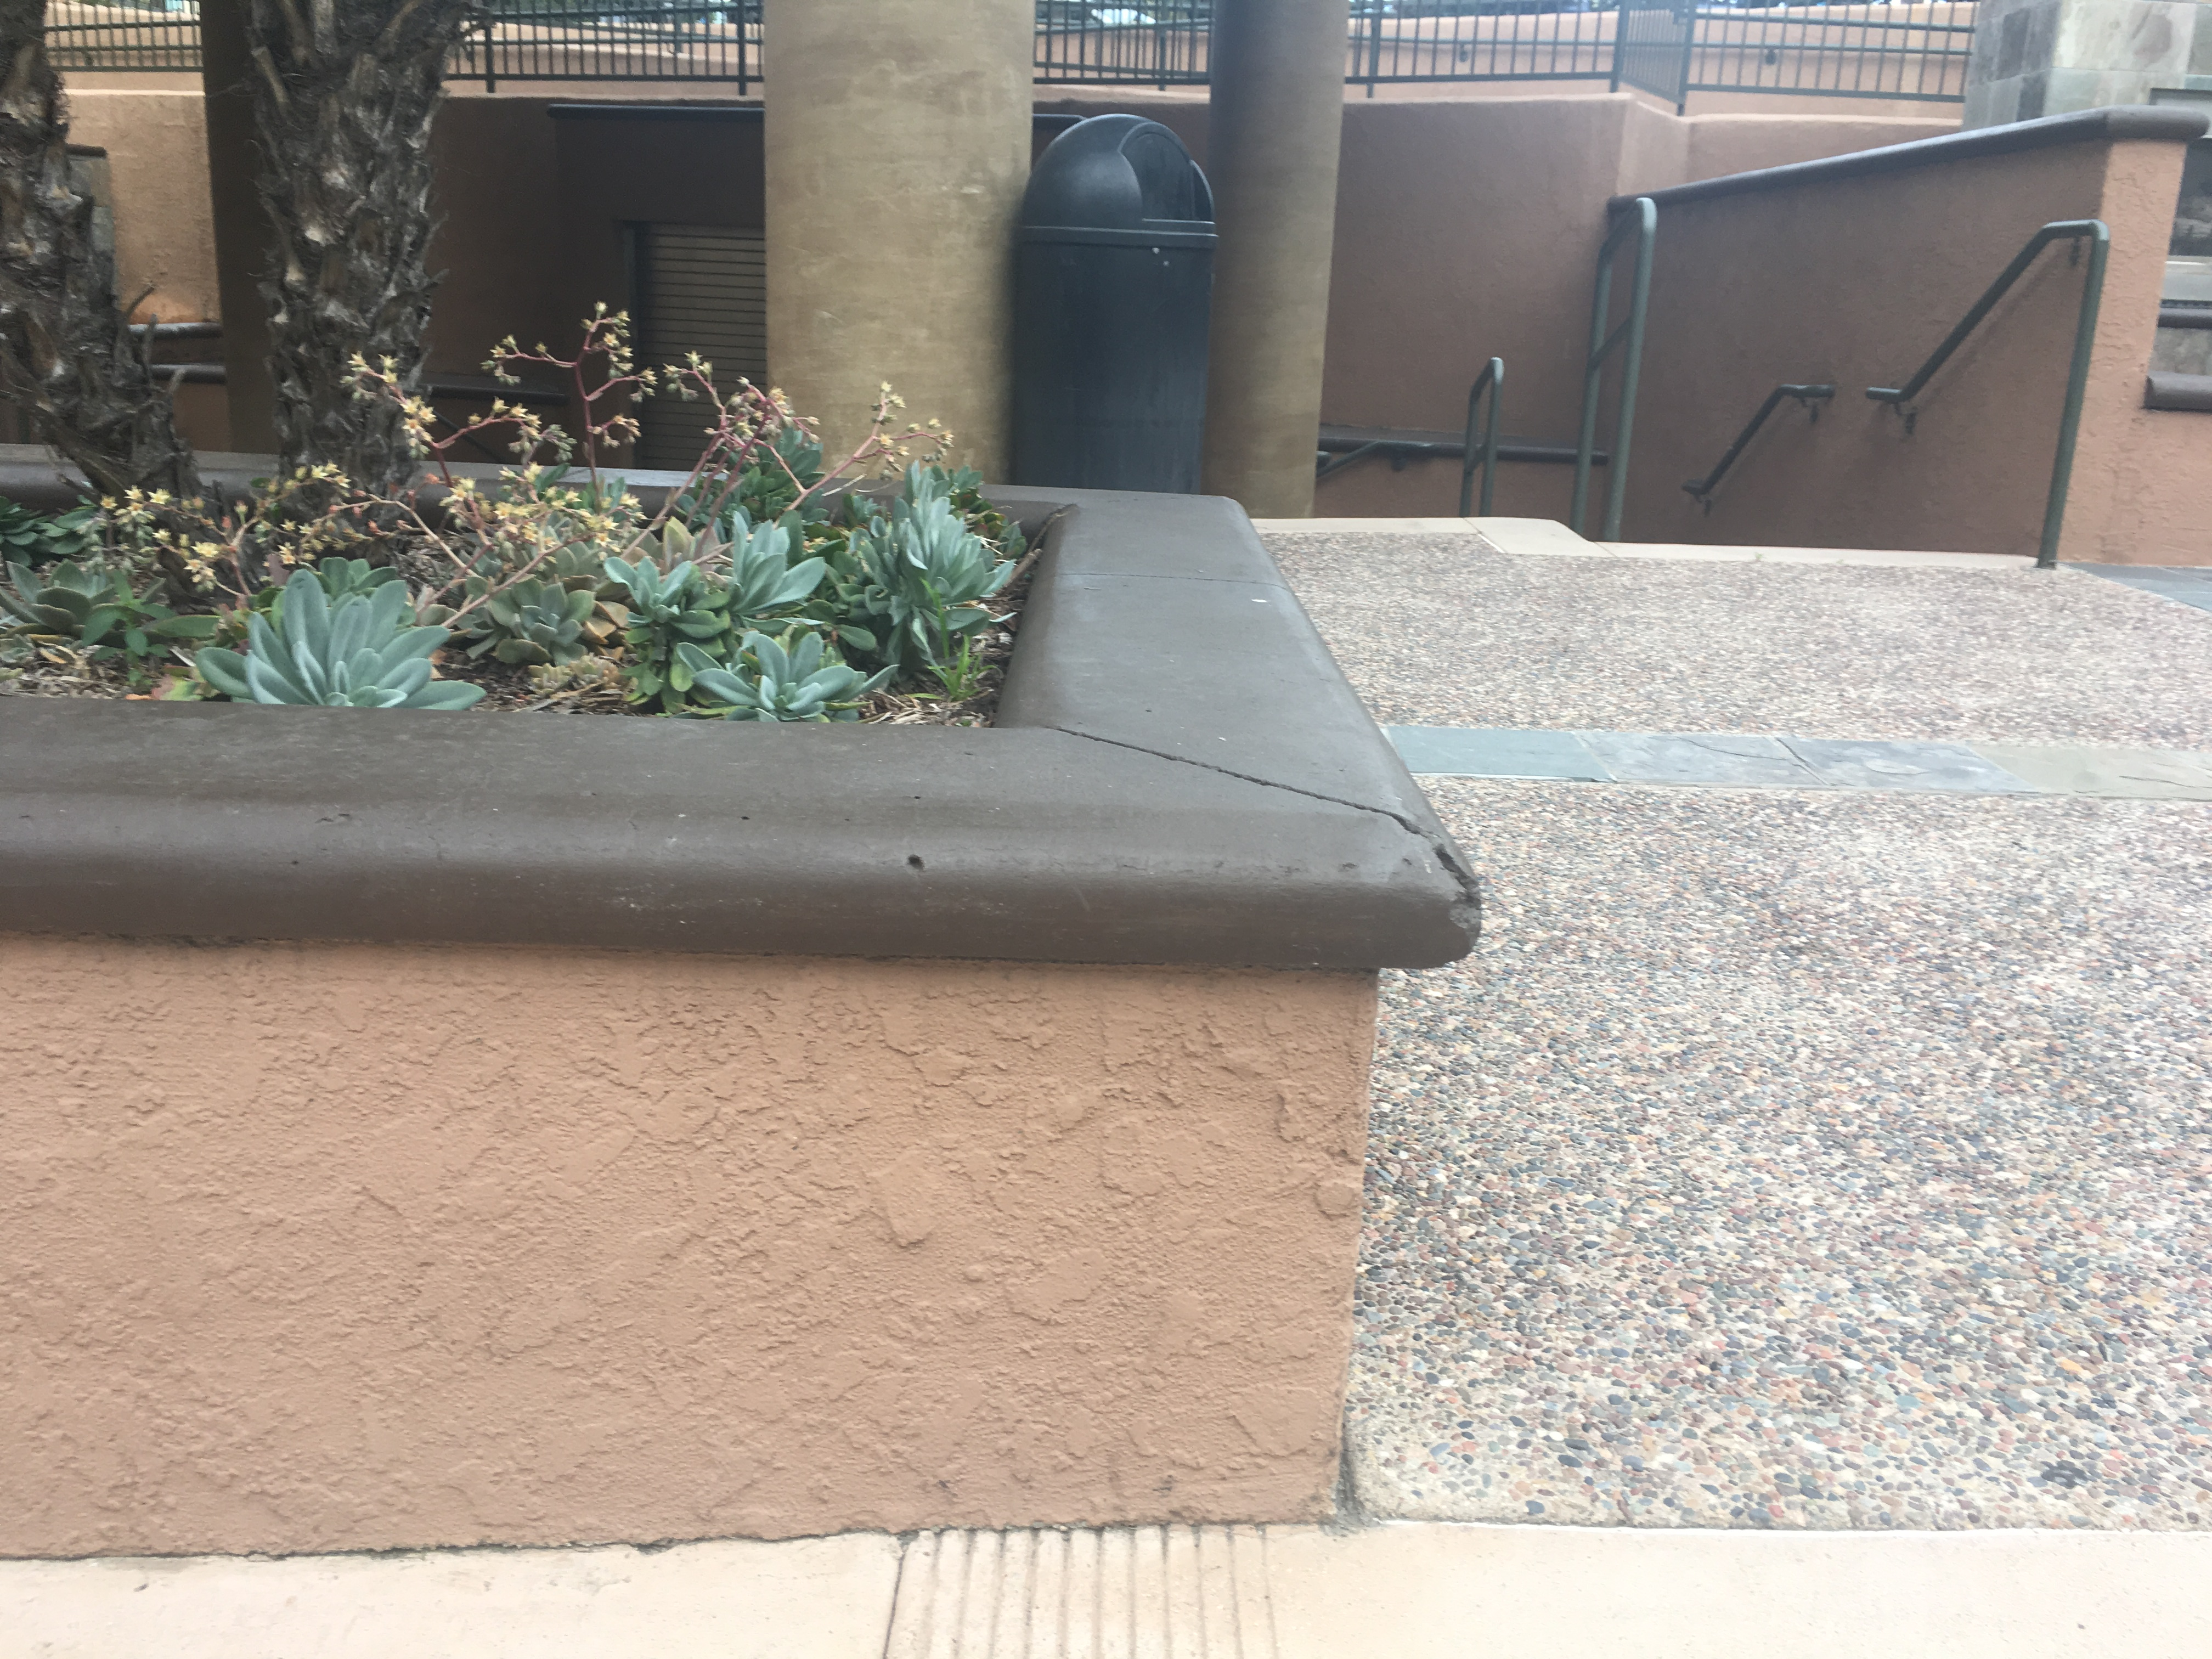Edge: (1264, 519, 2062, 563)
Obstacle: (0, 446, 1461, 1561), (2050, 110, 2205, 577)
